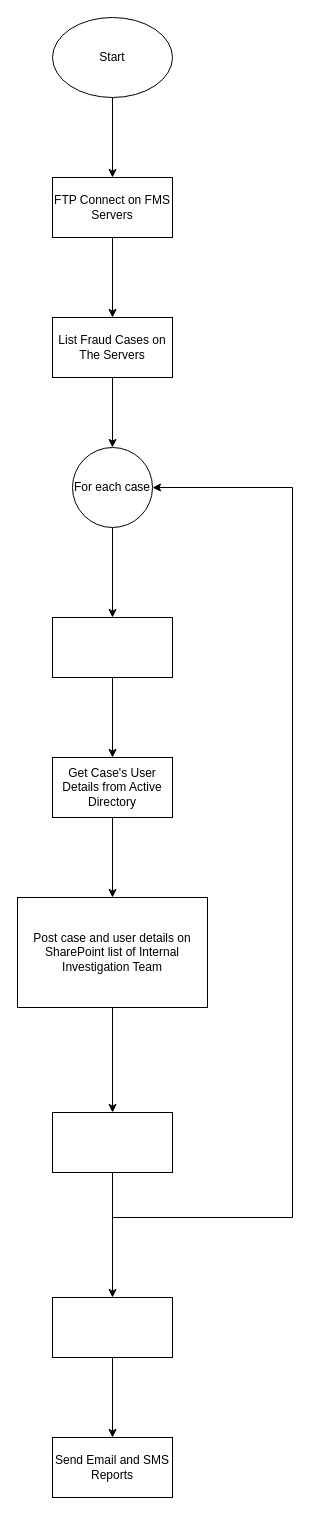
The diagram is 318 pixels wide and 1515 high, and some of its shapes have lost their labels. Here are the shapes that lost their labels. From the top down, the centre of each, then its label:
At (x=112, y=647): "Parse case data".
At (x=112, y=1142): "Attach Case Details on the posted SharePoint case".
At (x=112, y=1327): "Close FTP Connection".
